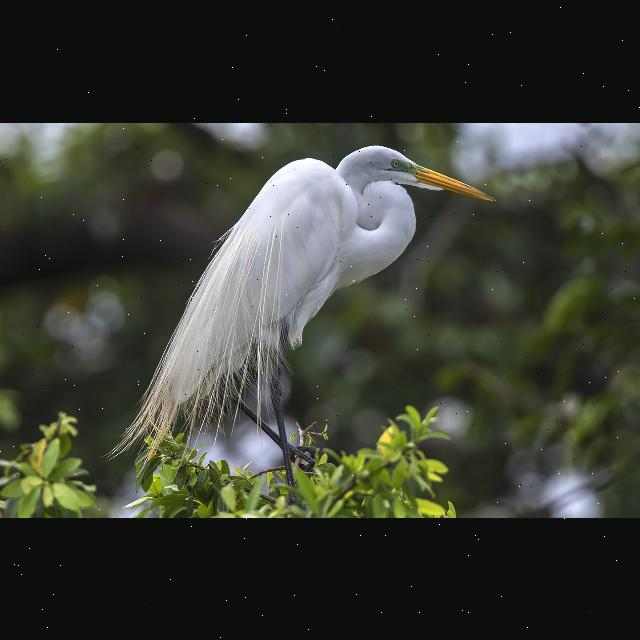egret: (122, 144, 500, 452)
